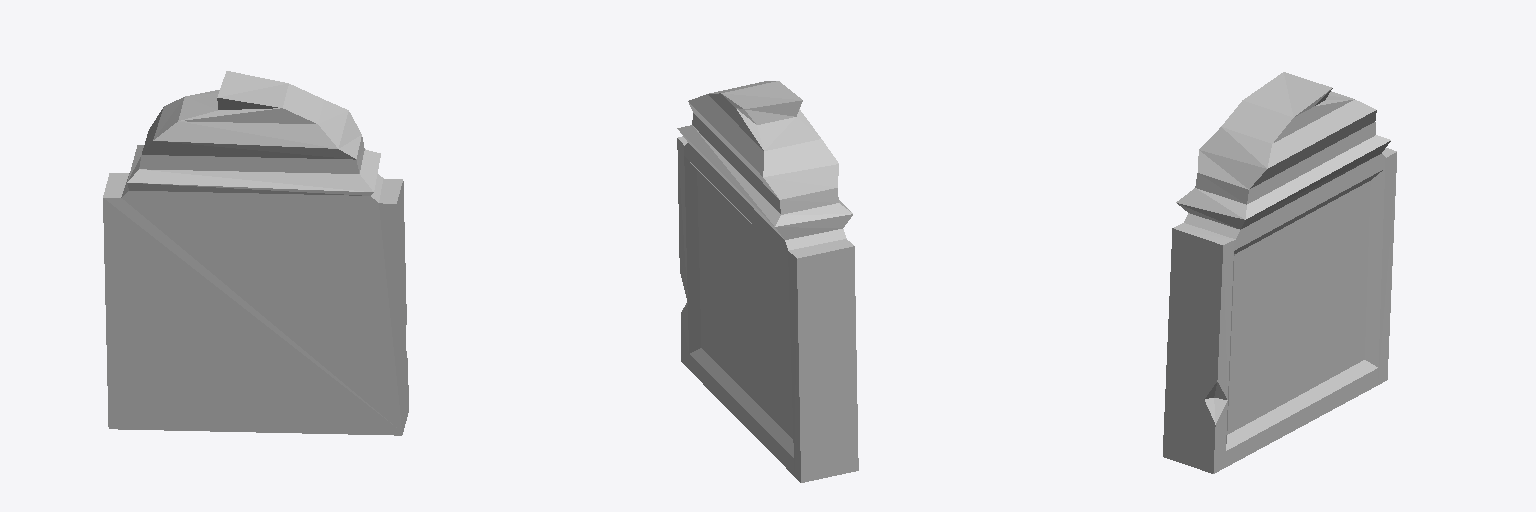
3 views of the same model, side by side, from view 1: azimuth 30°, elevation 25°; view 2: azimuth 150°, elevation 25°; view 3: azimuth 270°, elevation 25° (orthographic).
Visible parts, largest first — view 1: group[number redacted]; view 2: group[number redacted]; view 3: group[number redacted].
Boxes of the visible parts, x1,y1,x2,y2 form: group[number redacted]: [103, 71, 408, 435]; group[number redacted]: [677, 81, 858, 482]; group[number redacted]: [1163, 72, 1396, 473].
Size of the model in its own units: 0.3512 by 0.4667 by 0.298.